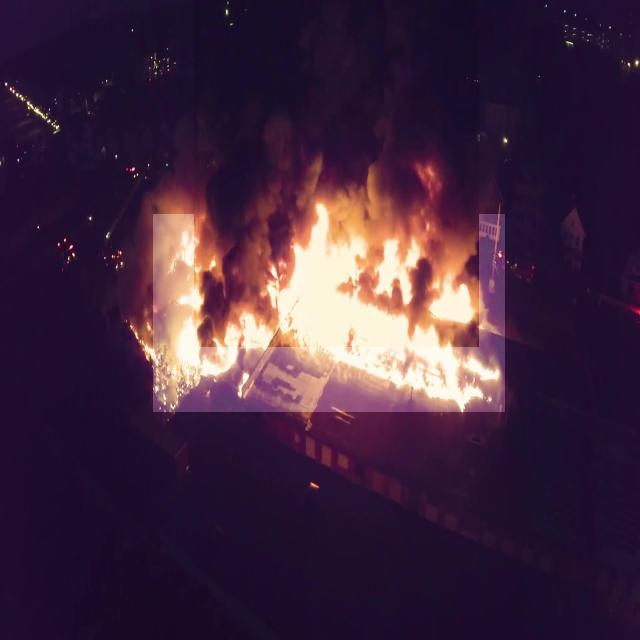Fire: (153, 214, 505, 412)
Smoke: (194, 0, 479, 347)
